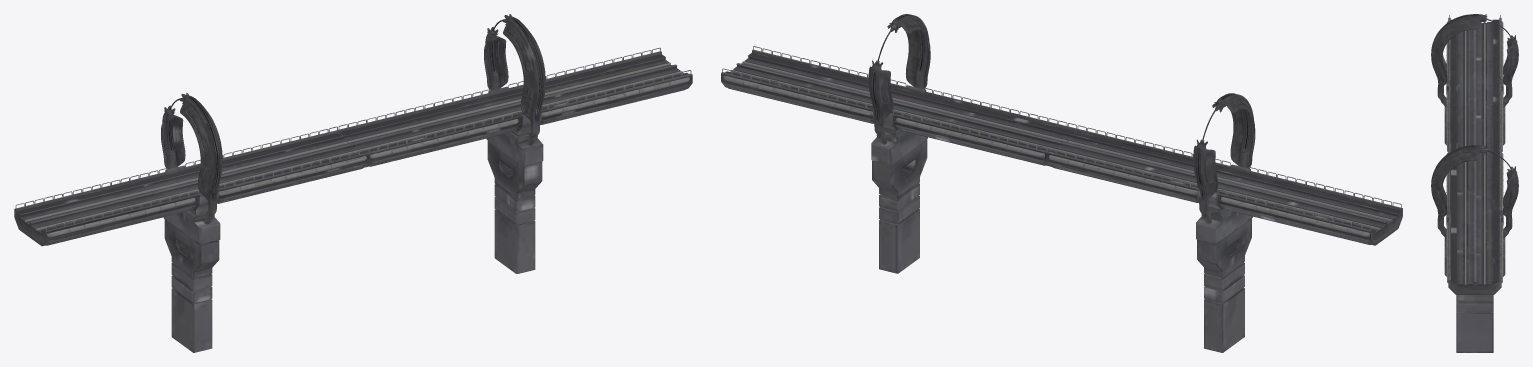
File: science_fiction_tramtrain_bridge..glb
The picture shows the model from 3 angles, left to right: view 1: azimuth 30°, elevation 25°; view 2: azimuth 150°, elevation 25°; view 3: azimuth 270°, elevation 25°; orthographic projection. The views are drawn at different scales.
Parts seen in each view (by area): view 1: Object_4; view 2: Object_4; view 3: Object_4.
Part boxes in pixels (box(x1,y1,x2,y2)): Object_4: box(14, 14, 692, 352); Object_4: box(721, 14, 1402, 352); Object_4: box(1431, 14, 1518, 352).
Size of the model in its own units: 91.17 by 32.9 by 12.88.
1 material, 1 textured.
